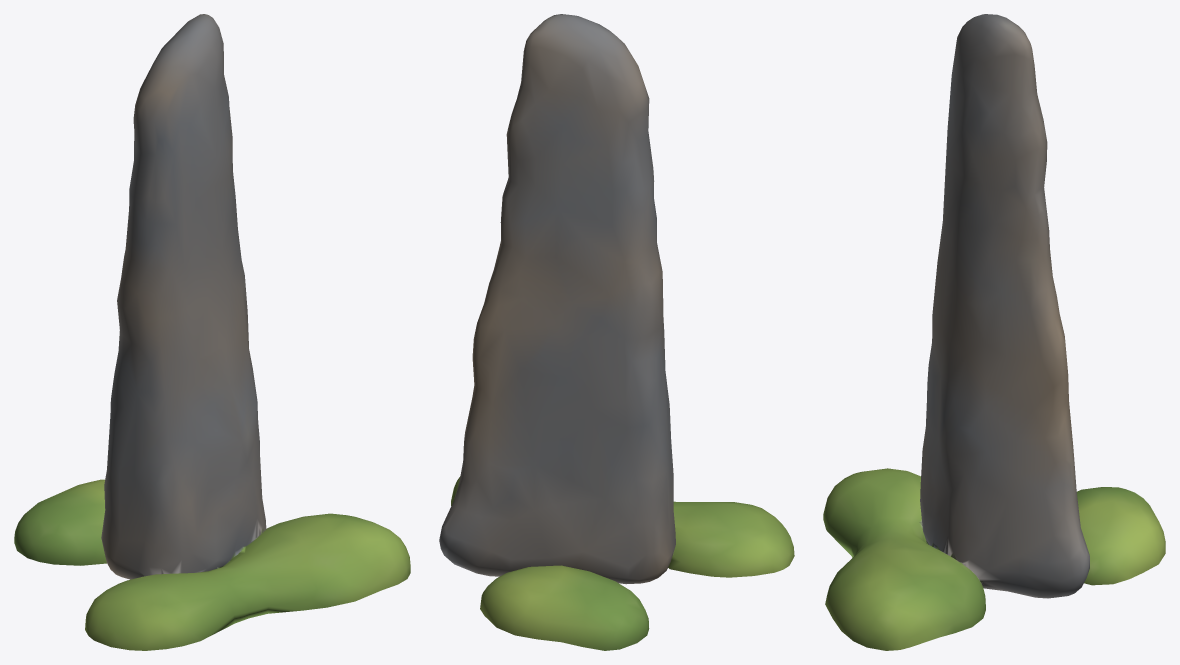
File: rock4.glb
3 views of the same model, side by side, from view 1: azimuth 30°, elevation 25°; view 2: azimuth 150°, elevation 25°; view 3: azimuth 270°, elevation 25° (orthographic). The views are drawn at different scales.
Visible parts, largest first — view 1: body; view 2: body; view 3: body.
Part boxes in pixels (bbox=[...]): body: bbox=[14, 14, 410, 650]; body: bbox=[439, 14, 794, 650]; body: bbox=[823, 14, 1165, 650].
Size of the model in its own units: 1.18 by 1.95 by 1.08.
